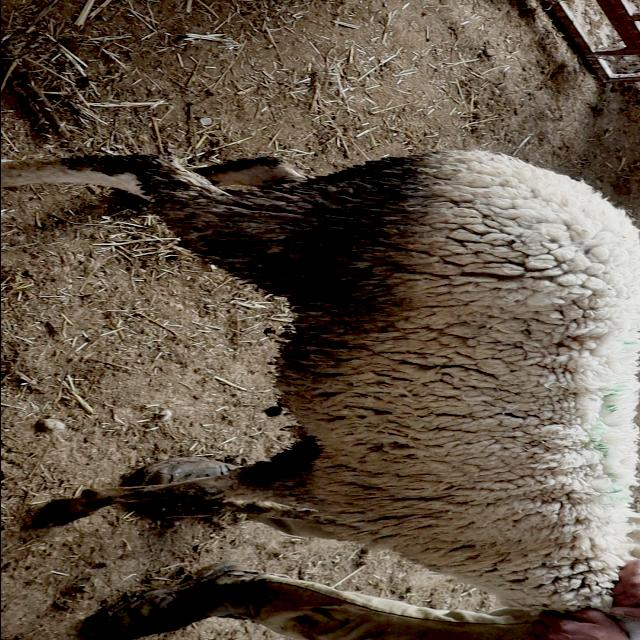Score_3: (1, 150, 640, 612)
